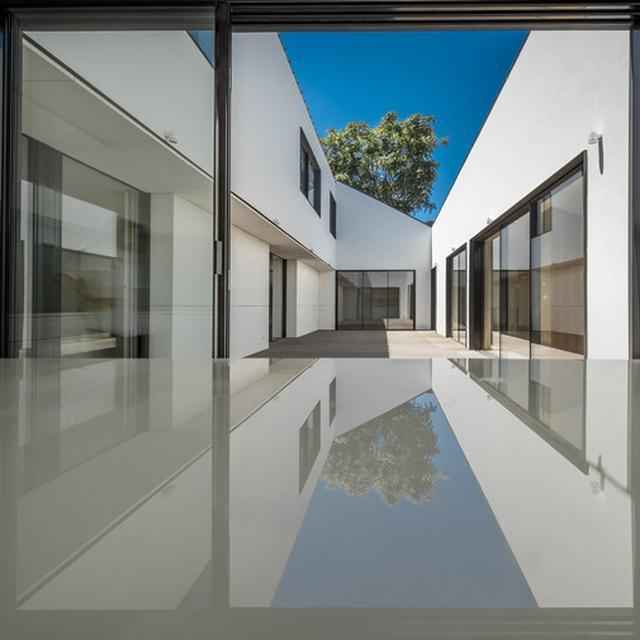building: (229, 26, 438, 358)
